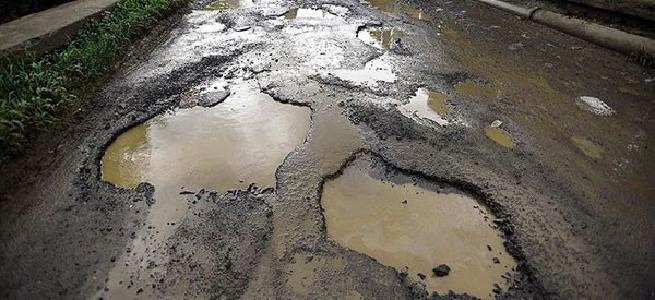pothole: (315, 145, 552, 298), (95, 79, 315, 196), (402, 83, 462, 127), (447, 70, 501, 101), (354, 20, 400, 54), (482, 118, 522, 149), (275, 4, 337, 19), (194, 14, 228, 33)
